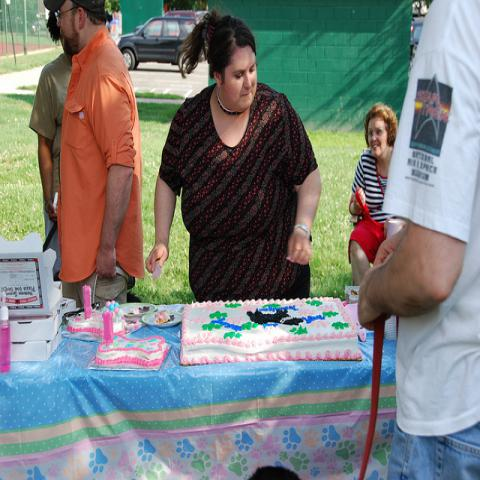car: (118, 18, 198, 71), (132, 10, 196, 31)
